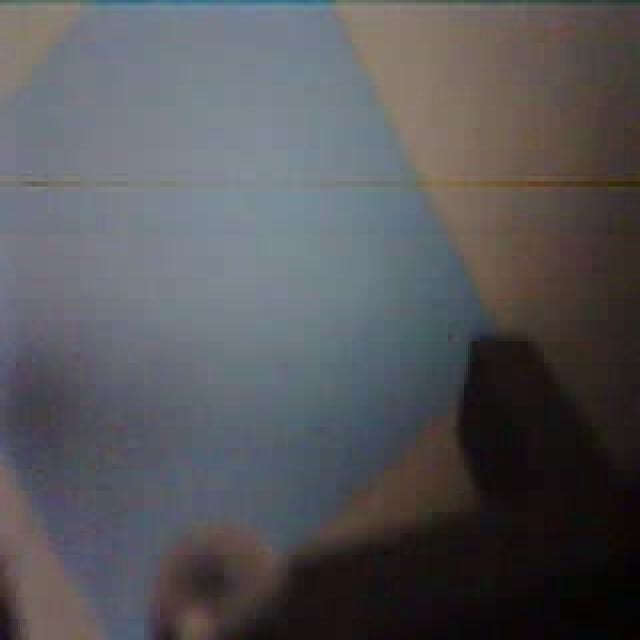blue_box: (0, 2, 494, 637)
